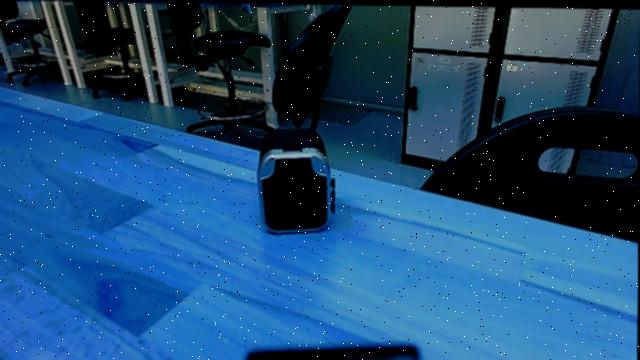adapter: (254, 123, 344, 242)
